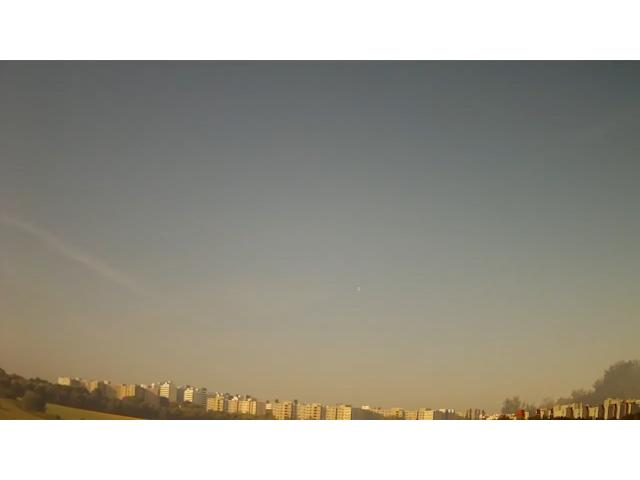Anti-Drone: (354, 286, 364, 298)
